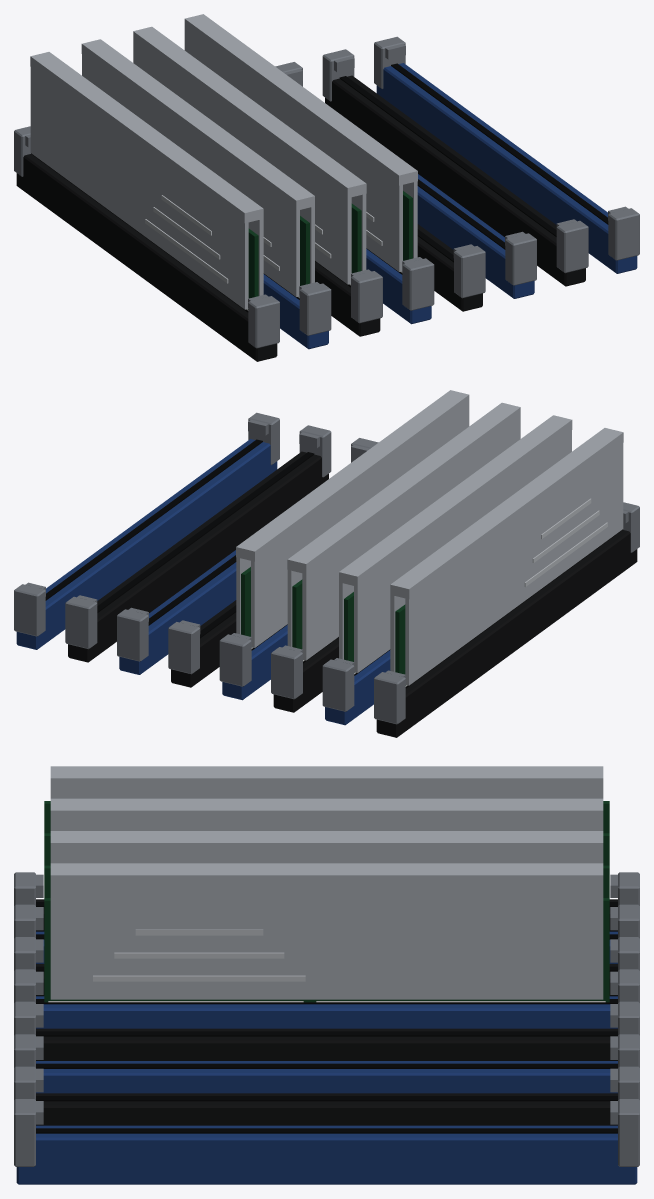
Rendered from hwm_ram_ddr3_24gb.glb.
The picture shows the model from 3 angles, top to bottom: view 1: azimuth 30°, elevation 25°; view 2: azimuth 150°, elevation 25°; view 3: azimuth 270°, elevation 25°; orthographic projection. The views are drawn at different scales.
Parts seen in each view (by area): view 1: Slots, Stick_0, Stick_3, Stick_2, Stick_1, Latch_6_1, Latch_1_1, Latch_3_1, Latch_4_1, Latch_2_1, Latch_5_1, Latch_0_1 (+4 smaller); view 2: Slots, Stick_0, Stick_3, Stick_2, Stick_1, Latch_6_0, Latch_1_0, Latch_3_0, Latch_4_0, Latch_2_0, Latch_5_0, Latch_0_0 (+4 smaller); view 3: Slots, Stick_3, Stick_0, Stick_1, Stick_2, Latch_7_0, Latch_7_1, Latch_4_0, Latch_4_1, Latch_6_0, Latch_6_1, Latch_0_0 (+9 smaller).
Boxes of the visible parts, x1,y1,x2,y2 form: Slots: (16,63,637,361); Stick_0: (30,52,263,310); Stick_3: (184,14,417,272); Stick_2: (133,26,366,285); Stick_1: (81,39,314,297); Latch_6_1: (556,219,588,273); Latch_1_1: (299,282,331,335); Latch_3_1: (402,257,434,310); Latch_4_1: (453,244,485,298); Latch_2_1: (351,269,382,323); Latch_5_1: (505,231,536,285); Latch_0_1: (248,294,279,348); Slots: (16,439,637,737); Stick_0: (390,428,623,686); Stick_3: (236,390,469,648); Stick_2: (287,402,520,661); Stick_1: (339,415,572,673); Latch_6_0: (65,595,97,649); Latch_1_0: (322,658,354,711); Latch_3_0: (219,633,251,686); Latch_4_0: (168,620,200,674); Latch_2_0: (271,645,302,699); Latch_5_0: (117,607,148,661); Latch_0_0: (374,670,405,724); Slots: (16,899,637,1184); Stick_3: (44,863,609,1002); Stick_0: (44,766,609,833); Stick_1: (44,798,609,865); Stick_2: (44,831,609,897); Latch_7_0: (610,1099,639,1166); Latch_7_1: (14,1099,43,1166); Latch_4_0: (610,1001,639,1035); Latch_4_1: (14,1001,43,1035); Latch_6_0: (610,1066,639,1099); Latch_6_1: (14,1066,43,1099); Latch_0_0: (610,872,639,905).
Size of the model in its own units: 0.1346 by 0.0467 by 0.1472.
